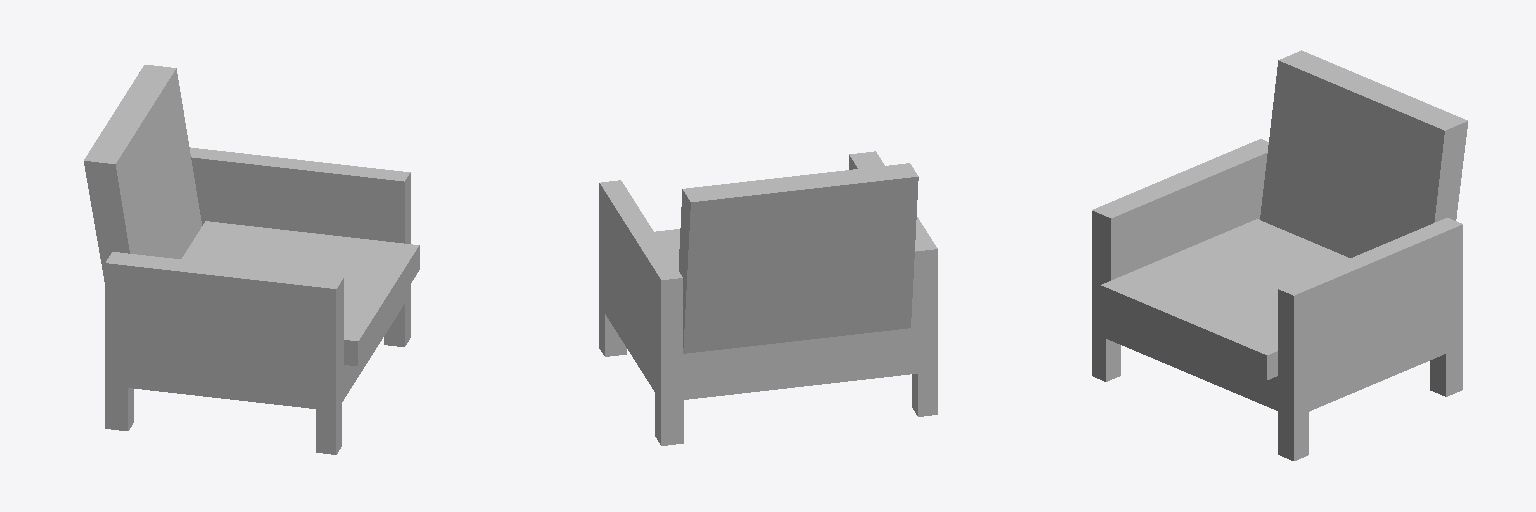
File: SmallSofa.obj
The picture shows the model from 3 angles: view 1: azimuth 30°, elevation 25°; view 2: azimuth 150°, elevation 25°; view 3: azimuth 270°, elevation 25°; orthographic projection.
Visible parts, largest first — view 1: SmallSofa; view 2: SmallSofa; view 3: SmallSofa.
Part boxes in pixels (x1,y1,x2,y2): SmallSofa: (84, 65, 419, 454); SmallSofa: (599, 151, 937, 445); SmallSofa: (1092, 50, 1467, 460).
Bounding box in the file's own units: 178 × 133 × 179.